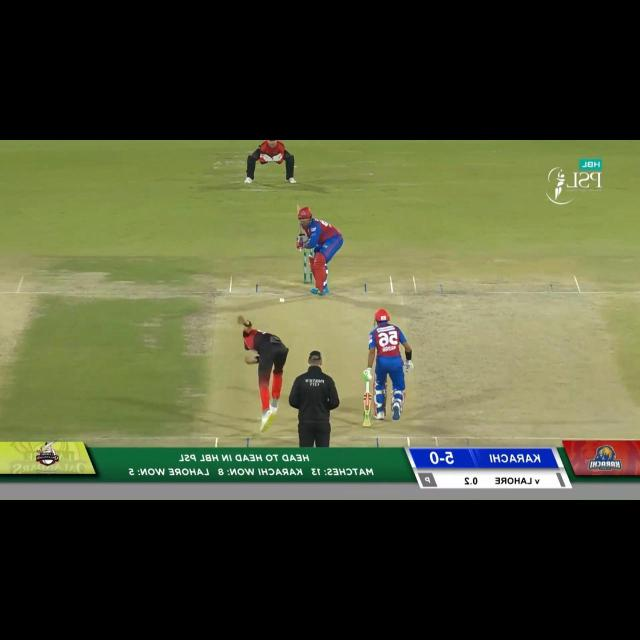bat: (294, 203, 306, 236), (362, 393, 373, 428)
toe: (361, 422, 373, 427), (296, 203, 300, 210)
